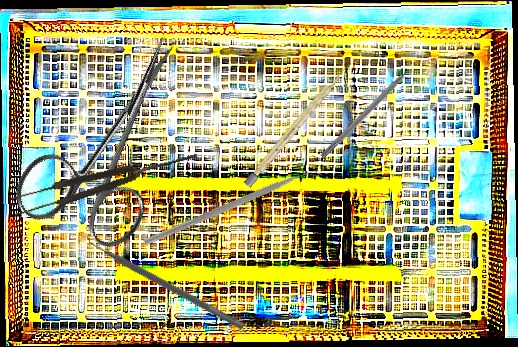Chopper: (142, 112, 329, 308)
Hook Surgical: (319, 59, 421, 161)
Iris Scissors: (6, 9, 223, 264)
Scalpel Handle: (243, 71, 344, 188)
Spatula Surgical: (79, 229, 249, 331)
Tissue Forceps: (9, 145, 201, 218)
